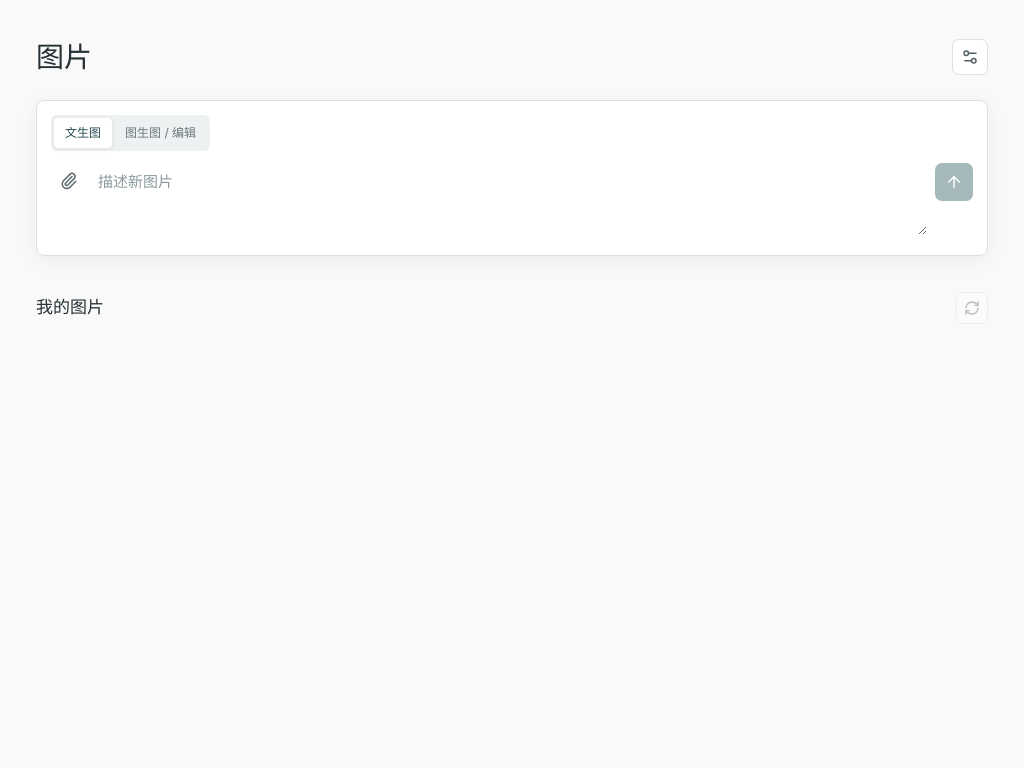
Test: ImageGenerationWorkbench › 上游返回图片少于请求数量时显示真实数量
Click the button named "生成设置".
click(970, 57)  # box left=952, top=39, right=988, bottom=75
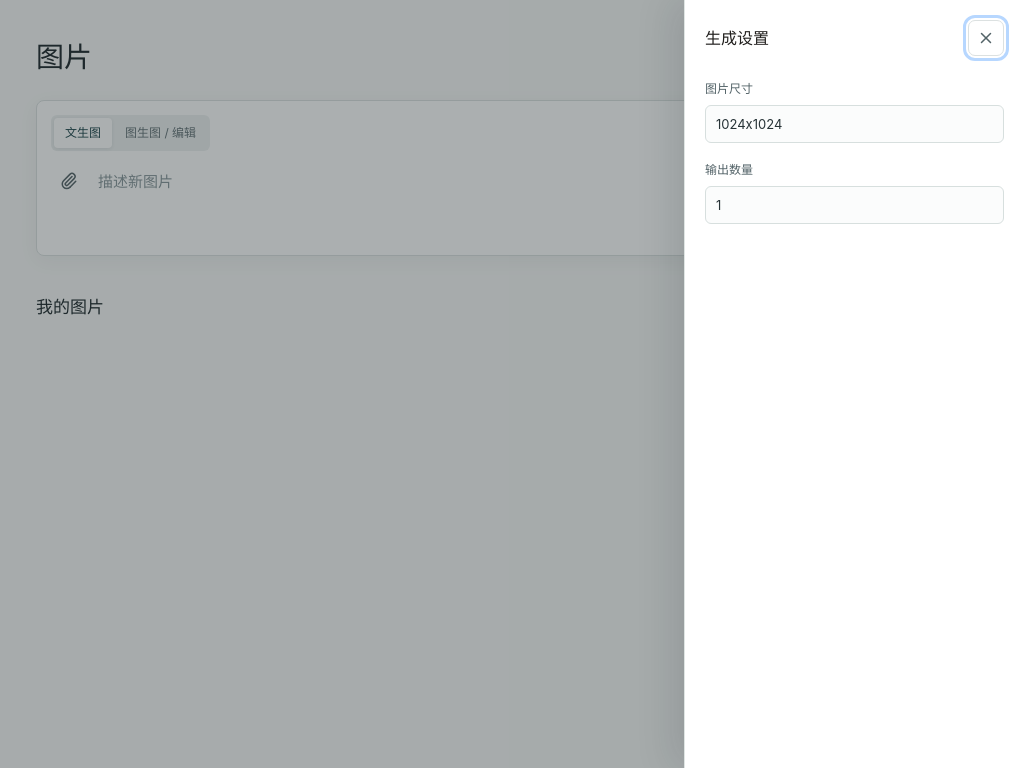
Replace the text in the number field labelled "输出数量" with "2" at point(854, 205), box left=705, top=186, right=1004, bottom=224
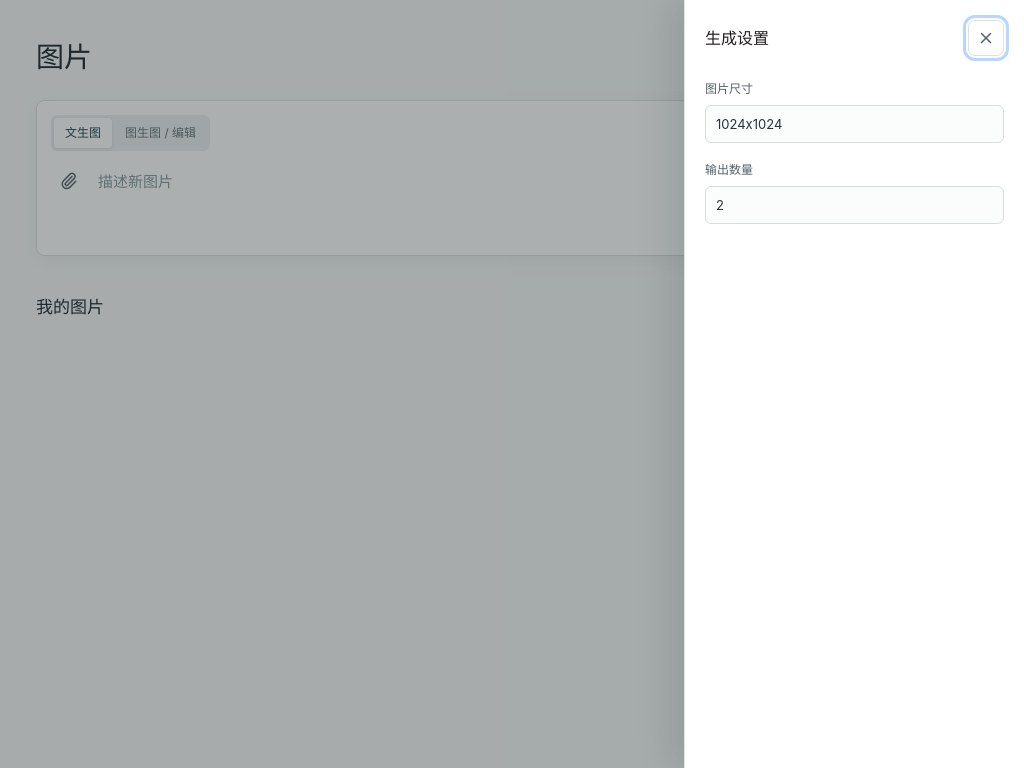
Click the button named "关闭生成设置".
click(986, 38)  # box left=968, top=20, right=1004, bottom=56
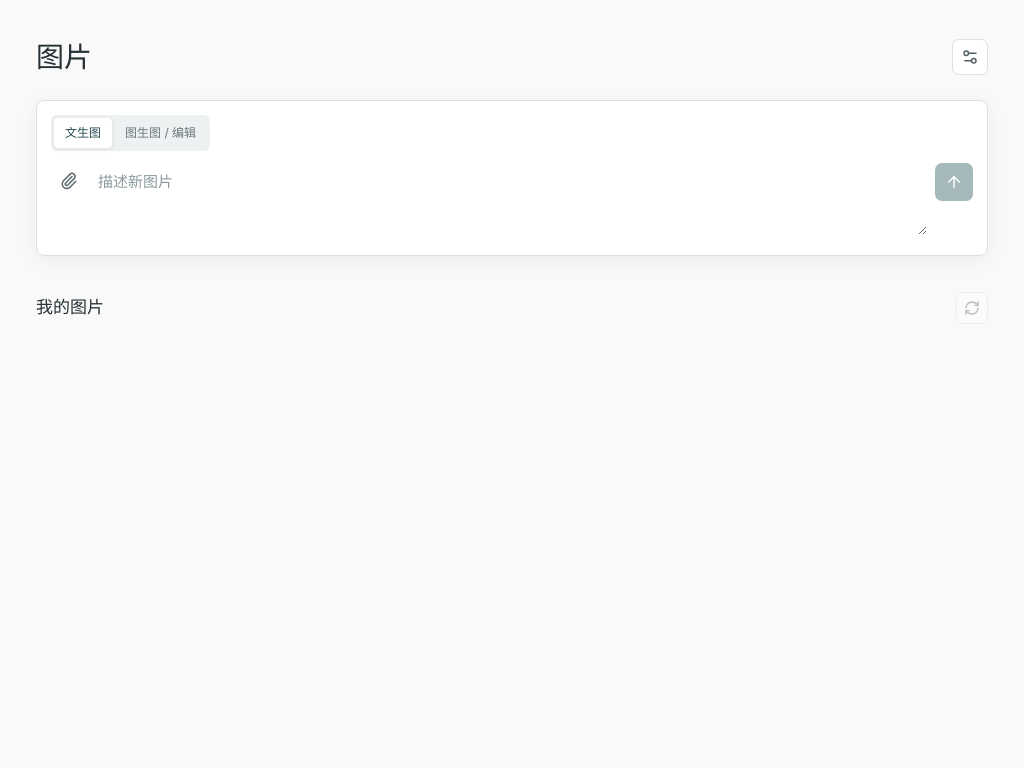
Type "海报" into the text box named "图片描述".
click(511, 199); type("海报")  # box left=95, top=163, right=927, bottom=235
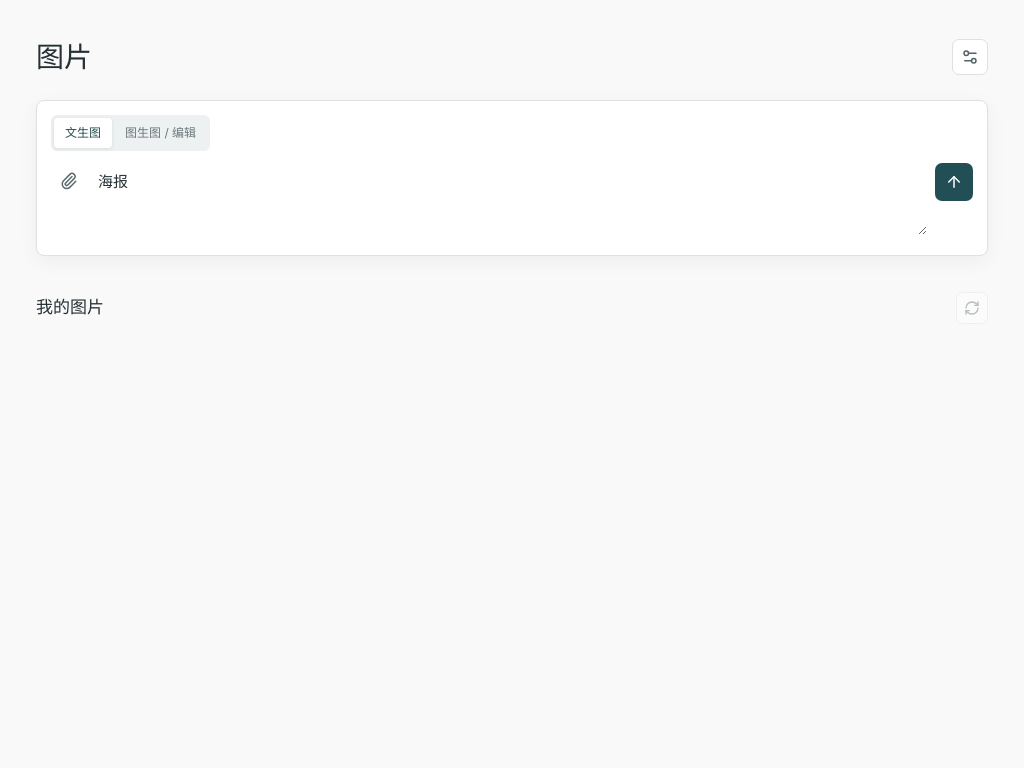
Click the button named "生成".
click(954, 182)  # box left=935, top=163, right=973, bottom=201
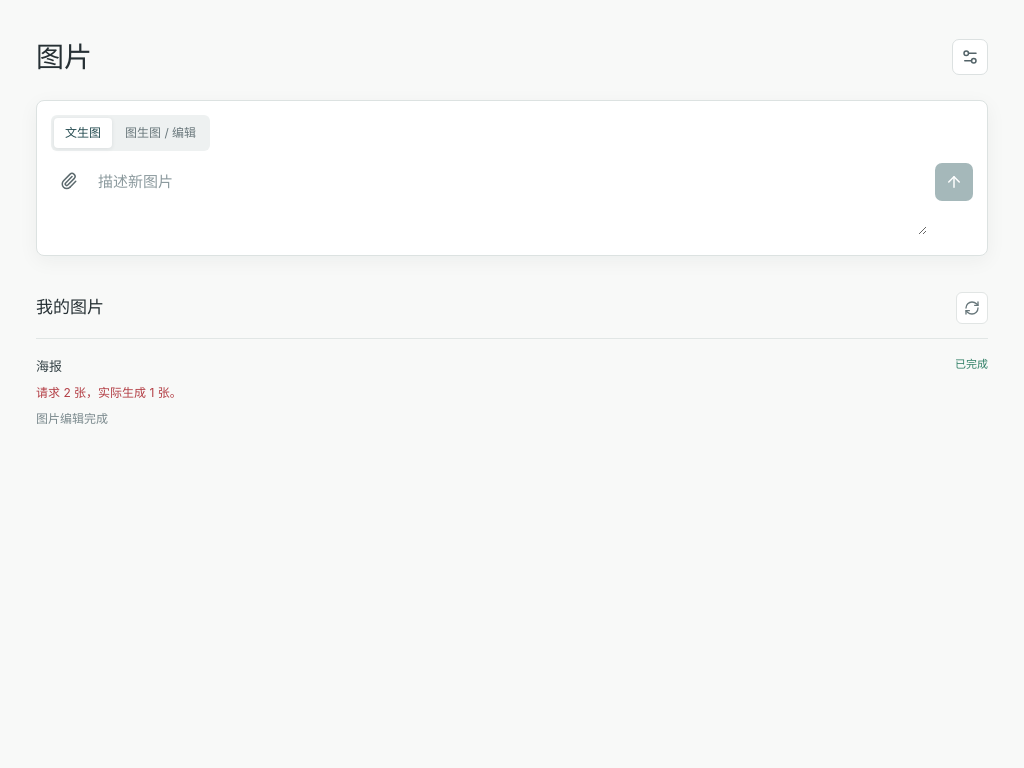
Expected: the message shows "请求 2 张，实际生成 1 张", left=36, top=385, right=182, bottom=400
